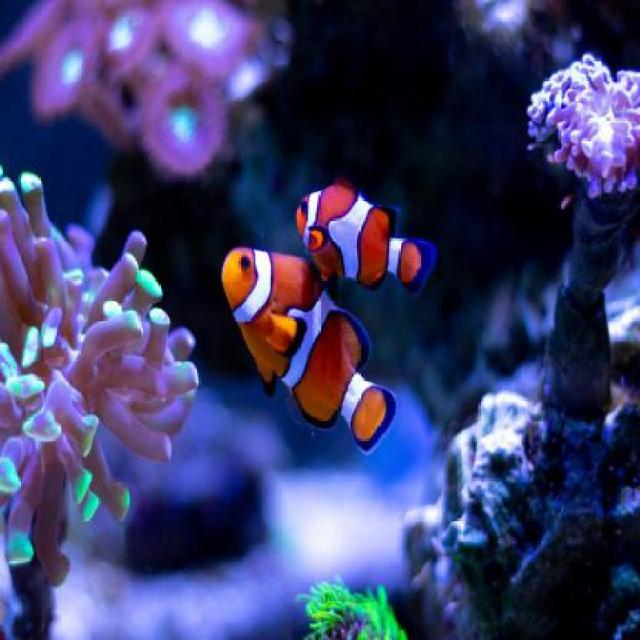ClownFish: (211, 246, 397, 452), (291, 178, 440, 292)
